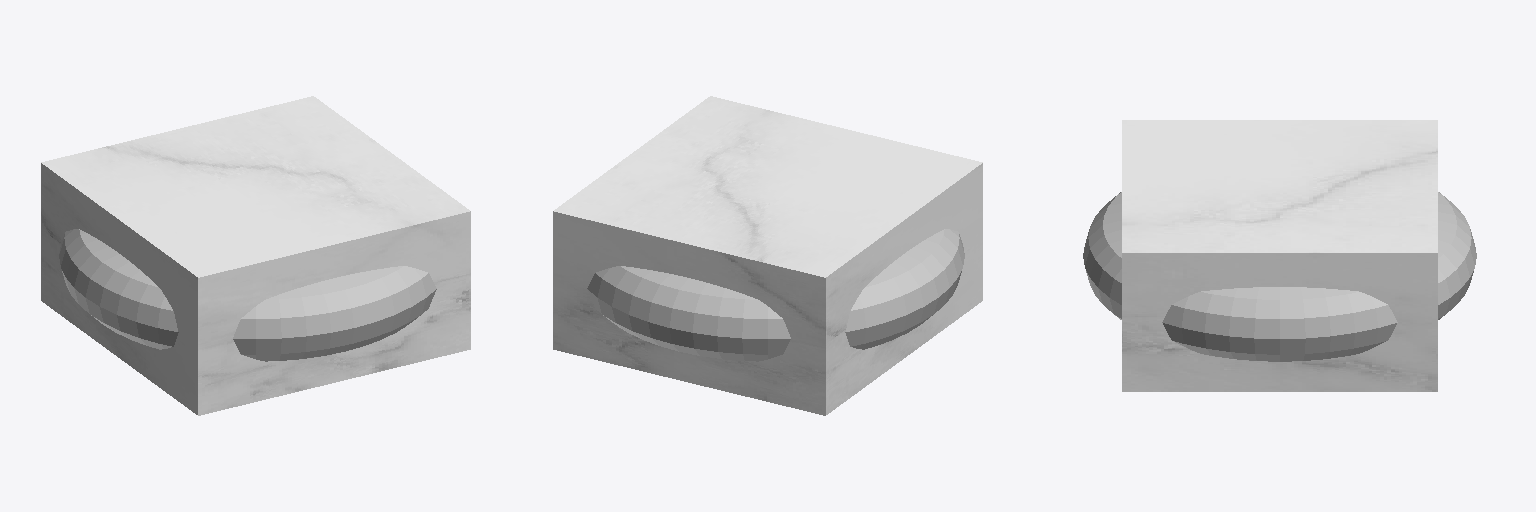
3 views of the same model, side by side, from view 1: azimuth 30°, elevation 25°; view 2: azimuth 150°, elevation 25°; view 3: azimuth 270°, elevation 25° (orthographic).
Parts seen in each view (by area): view 1: Cube_Cube.001, Torus; view 2: Cube_Cube.001, Torus; view 3: Cube_Cube.001, Torus.
Boxes of the visible parts, <box> form: Cube_Cube.001: <box>41,96,470,415</box>; Torus: <box>59,229,436,361</box>; Cube_Cube.001: <box>553,96,982,415</box>; Torus: <box>587,229,964,361</box>; Cube_Cube.001: <box>1122,120,1437,391</box>; Torus: <box>1083,192,1476,361</box>.
Size of the model in its own units: 2.5 by 0.9678 by 2.5.
Materials: 2 (1 with a texture image).